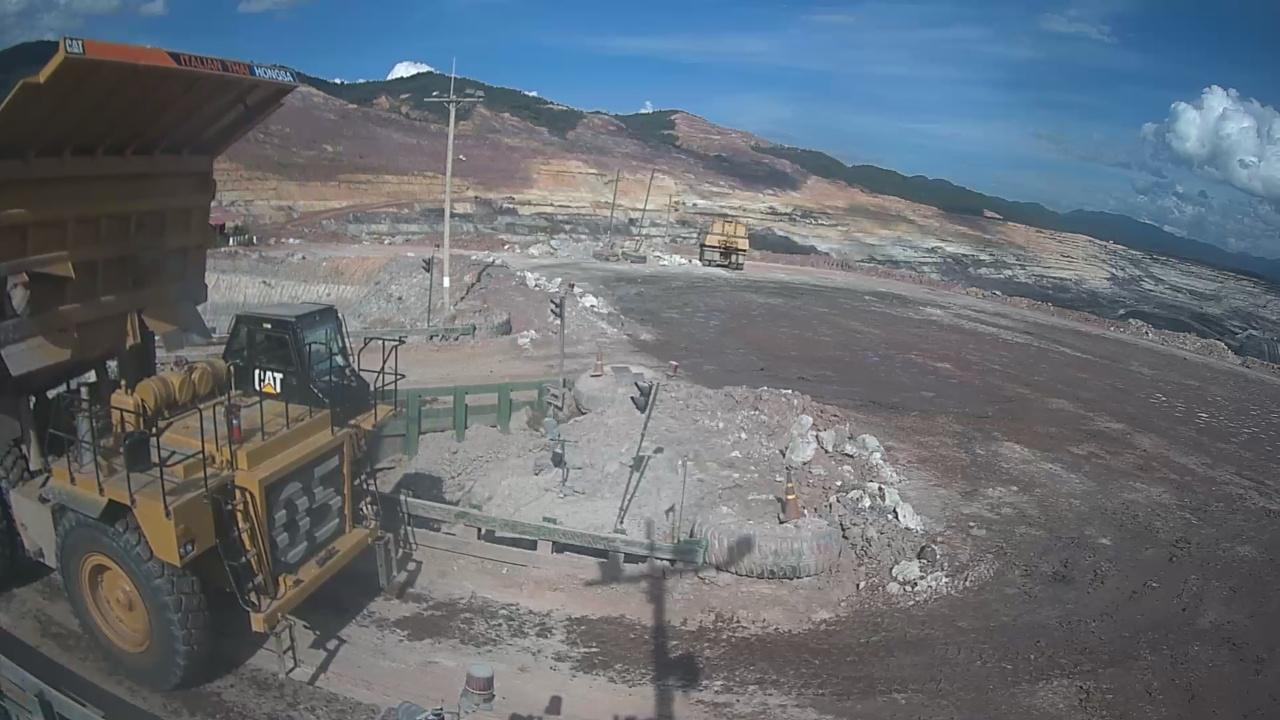dumping_soil: (1, 28, 424, 693)
front_number: (263, 456, 354, 568)
